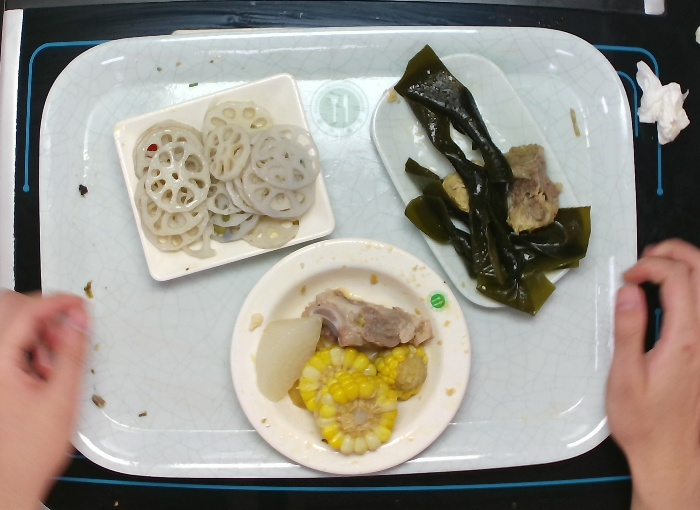WCQzf-Bai_Se_Si_Fang_Die: (106, 65, 337, 289)
WCQzf-Kuan_Bian_Yuan_Die: (228, 230, 479, 480)
WCQzf-Tuo_Yuan_Pan: (367, 48, 591, 312)
